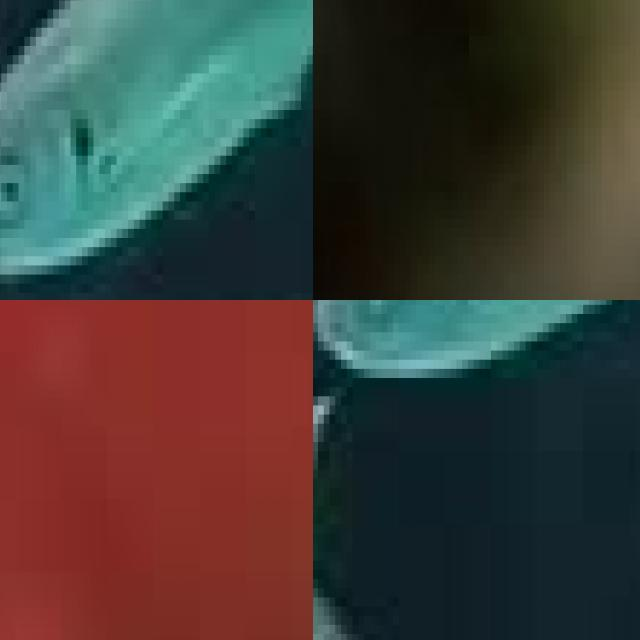fish: (0, 300, 313, 640), (0, 0, 313, 300)
